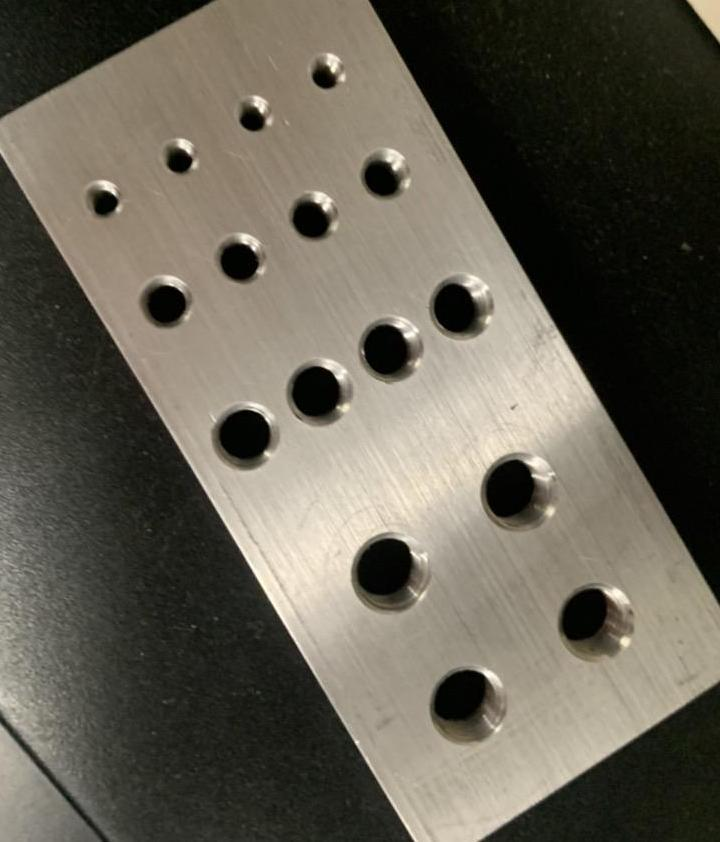hole: (423, 658, 517, 749), (346, 529, 439, 619), (476, 444, 564, 534), (552, 576, 640, 665), (204, 400, 290, 481), (349, 310, 428, 389), (278, 354, 357, 432), (430, 267, 501, 347), (130, 262, 197, 337), (212, 224, 276, 288), (354, 144, 418, 204), (282, 189, 344, 248), (152, 126, 206, 190), (71, 177, 127, 229), (296, 51, 352, 102), (225, 94, 281, 140)
